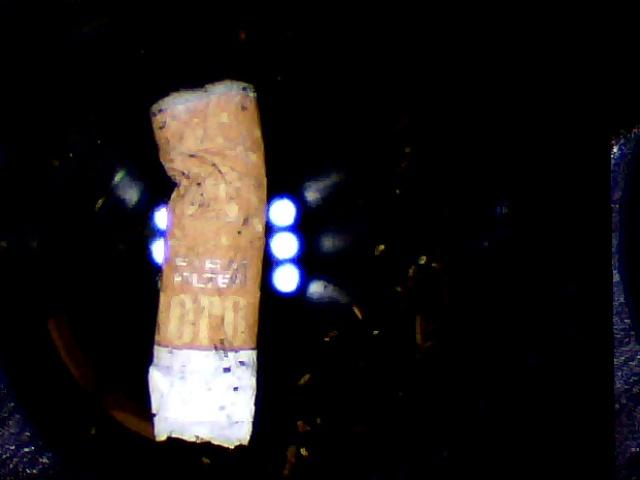megot: (140, 71, 289, 459)
